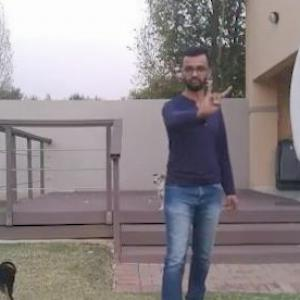takeoff-hand: (192, 67, 237, 123)
